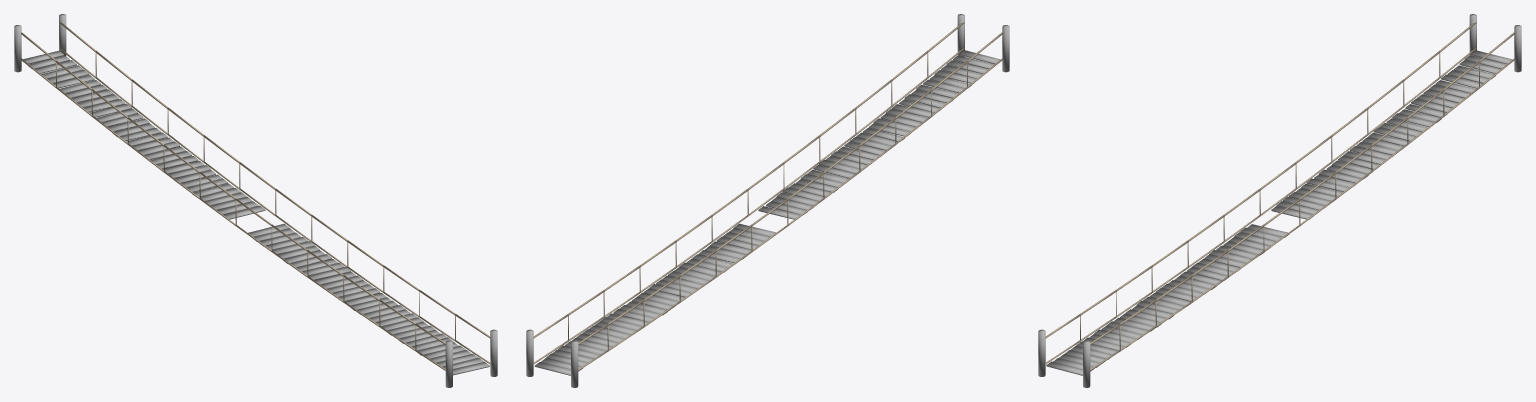
File: bridge.glb
The picture shows the model from 3 angles, left to right: view 1: azimuth 30°, elevation 25°; view 2: azimuth 150°, elevation 25°; view 3: azimuth 330°, elevation 25°; orthographic projection.
Parts seen in each view (by area): view 1: deck, ropes, posts; view 2: deck, ropes, posts; view 3: deck, ropes, posts.
Part boxes in pixels (x1,y1,x2,y2): deck: (22,50,489,375); ropes: (21,22,490,370); posts: (14,14,497,387); deck: (534,50,1000,375); ropes: (533,22,1002,370); posts: (526,14,1009,387); deck: (1046,50,1512,375); ropes: (1045,22,1514,370); posts: (1038,14,1521,387).
Size of the model in its own units: 2.06 by 1.7 by 30.26.
